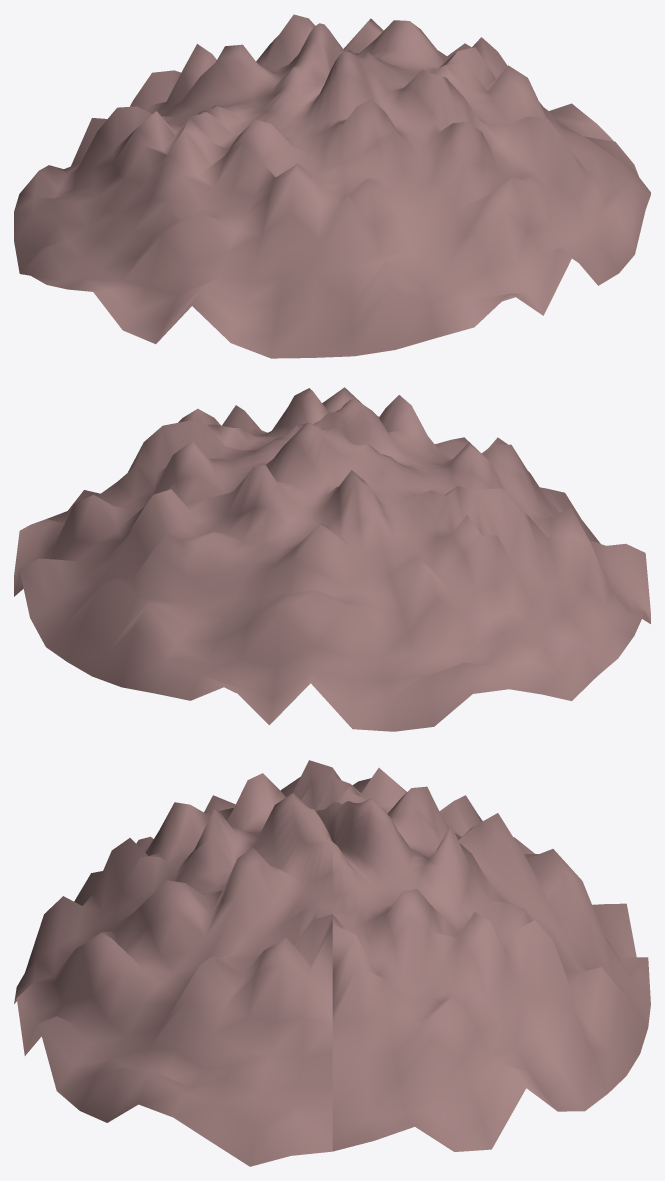
Rendered from brain-mobile.glb.
The picture shows the model from 3 angles, top to bottom: view 1: azimuth 30°, elevation 25°; view 2: azimuth 150°, elevation 25°; view 3: azimuth 270°, elevation 25°; orthographic projection. The views are drawn at different scales.
Parts seen in each view (by area): view 1: meandering-corallites; view 2: meandering-corallites; view 3: meandering-corallites.
Boxes of the visible parts, bbox=[...] form: meandering-corallites: bbox=[14, 14, 650, 358]; meandering-corallites: bbox=[14, 387, 650, 731]; meandering-corallites: bbox=[14, 760, 650, 1166].
Bounding box in the file's own units: 0.68 × 0.2233 × 0.5848.
